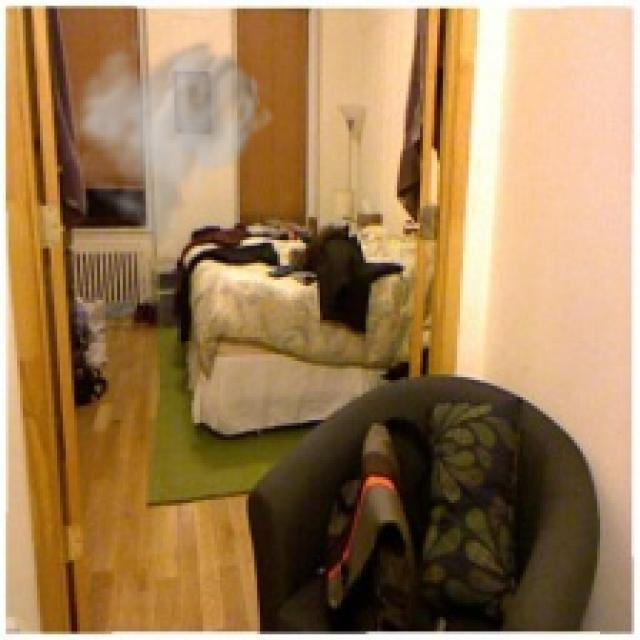Smoke: (65, 20, 278, 257)
